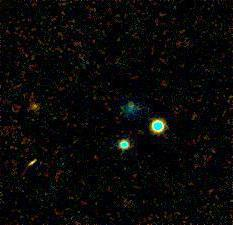star: (20, 91, 50, 121)
